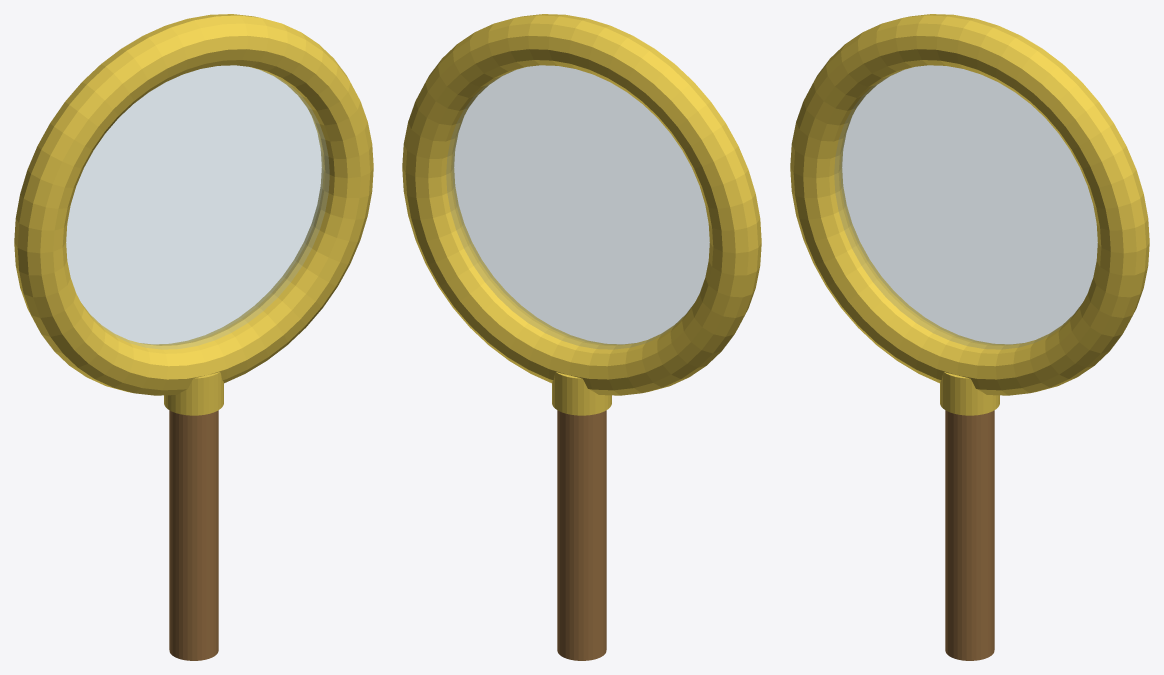
The model's file is Magnifying Glass.fbx.
The picture shows the model from 3 angles, left to right: view 1: azimuth 30°, elevation 25°; view 2: azimuth 150°, elevation 25°; view 3: azimuth 330°, elevation 25°; orthographic projection.
Visible parts, largest first — view 1: Cylinder, Torus.170, Cylinder.001, Cylinder.002; view 2: Cylinder, Torus.170, Cylinder.001, Cylinder.002; view 3: Cylinder, Torus.170, Cylinder.001, Cylinder.002.
Part boxes in pixels (box(x1,y1,x2,y2)): Cylinder: box(66, 65, 329, 349); Torus.170: box(14, 14, 373, 395); Cylinder.001: box(169, 410, 218, 660); Cylinder.002: box(164, 372, 223, 415); Cylinder: box(446, 65, 709, 349); Torus.170: box(402, 14, 761, 395); Cylinder.001: box(557, 410, 606, 660); Cylinder.002: box(552, 372, 611, 415); Cylinder: box(834, 65, 1097, 349); Torus.170: box(790, 14, 1149, 395); Cylinder.001: box(945, 410, 994, 660); Cylinder.002: box(940, 372, 999, 415).
Size of the model in its own units: 59.6 by 102 by 8.8.
